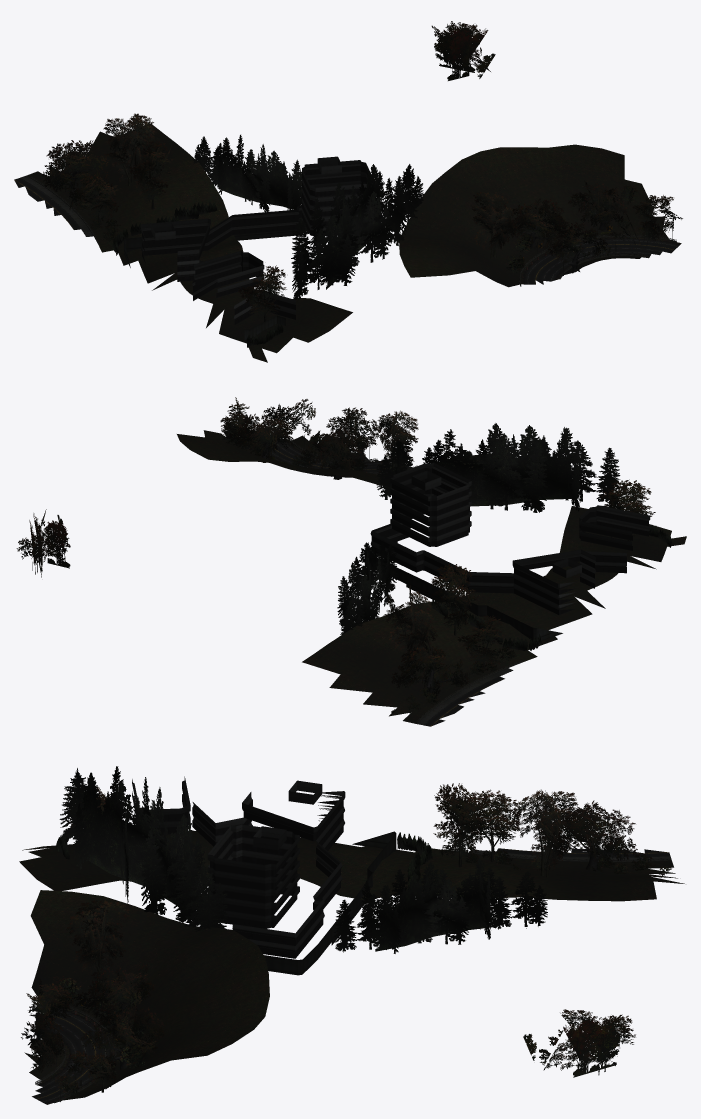
The model's file is cell_1_-14.gltf.
3 views of the same model, one above another, from view 1: azimuth 30°, elevation 25°; view 2: azimuth 150°, elevation 25°; view 3: azimuth 270°, elevation 25° (orthographic). The views are drawn at different scales.
Parts seen in each view (by area): view 1: cell_1_-14; view 2: cell_1_-14; view 3: cell_1_-14.
Part boxes in pixels (box(x1,y1,x2,y2)): cell_1_-14: box(14, 21, 682, 362); cell_1_-14: box(16, 397, 686, 726); cell_1_-14: box(19, 766, 684, 1104).
Size of the model in its own units: 273 by 68.62 by 274.
30 materials, 30 textured.
